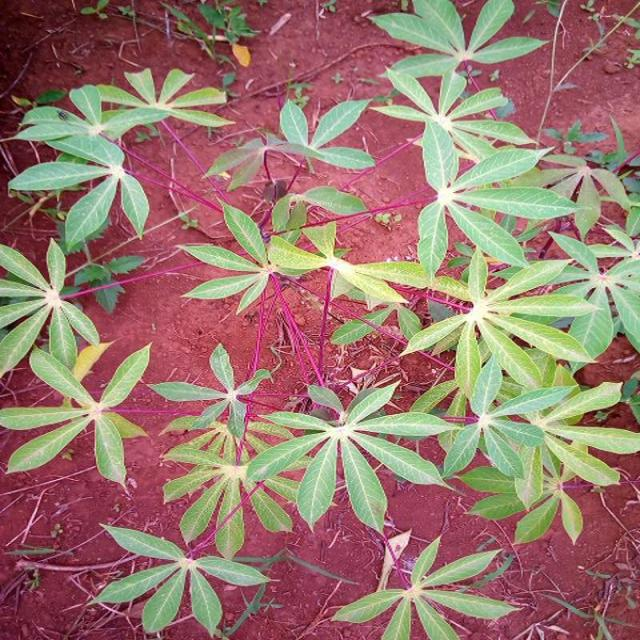cassava leaf: (1, 1, 638, 636)
